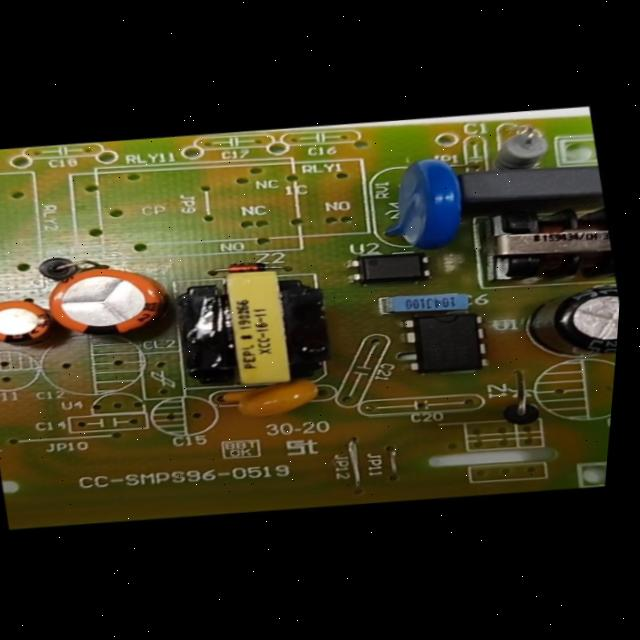Cap1: (42, 262, 180, 341)
Cap2: (0, 295, 57, 346)
Cap3: (518, 281, 621, 359)
MOSFET: (394, 309, 497, 374)
Mov: (367, 151, 479, 248)
Resistor: (476, 123, 557, 172)
Transformer: (162, 265, 342, 394), (480, 202, 621, 286)
